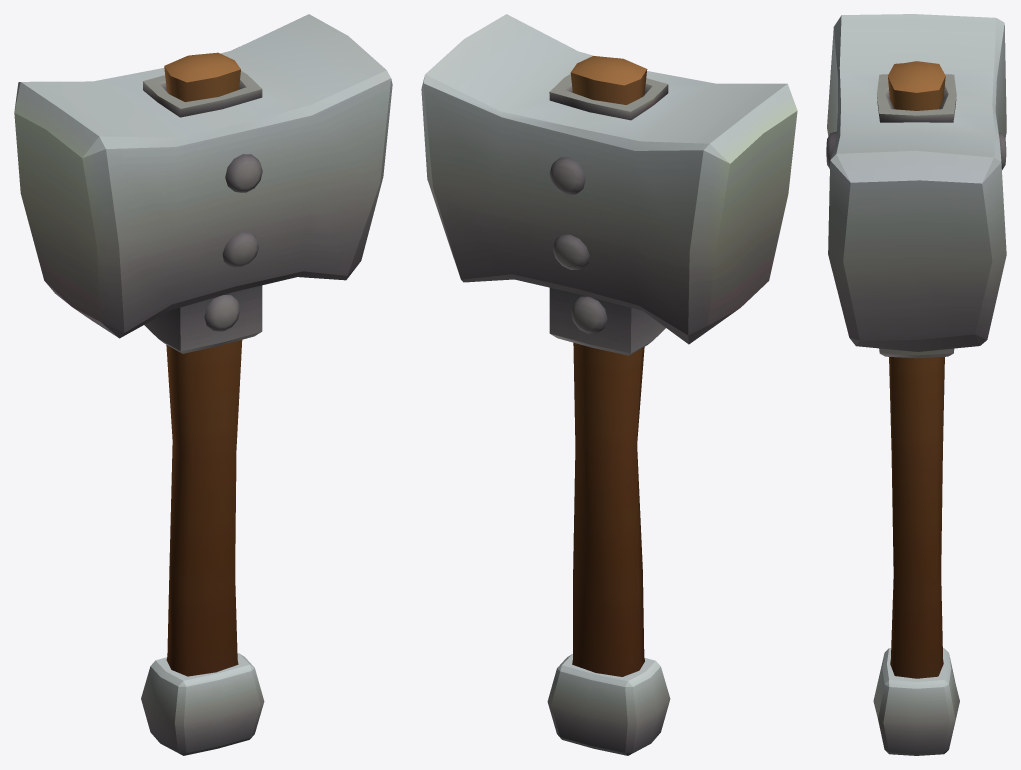
File: Hammer_04.glb
3 renders of one model, left to right at view 1: azimuth 30°, elevation 25°; view 2: azimuth 150°, elevation 25°; view 3: azimuth 270°, elevation 25°, orthographic.
Visible parts, largest first — view 1: Hammer_04; view 2: Hammer_04; view 3: Hammer_04.
Boxes of the visible parts, bbox=[...] form: Hammer_04: bbox=[14, 14, 392, 755]; Hammer_04: bbox=[421, 14, 797, 755]; Hammer_04: bbox=[826, 14, 1006, 755].
Bounding box in the file's own units: 0.5263 × 1.08 × 0.2641.
1 material, 1 textured.
